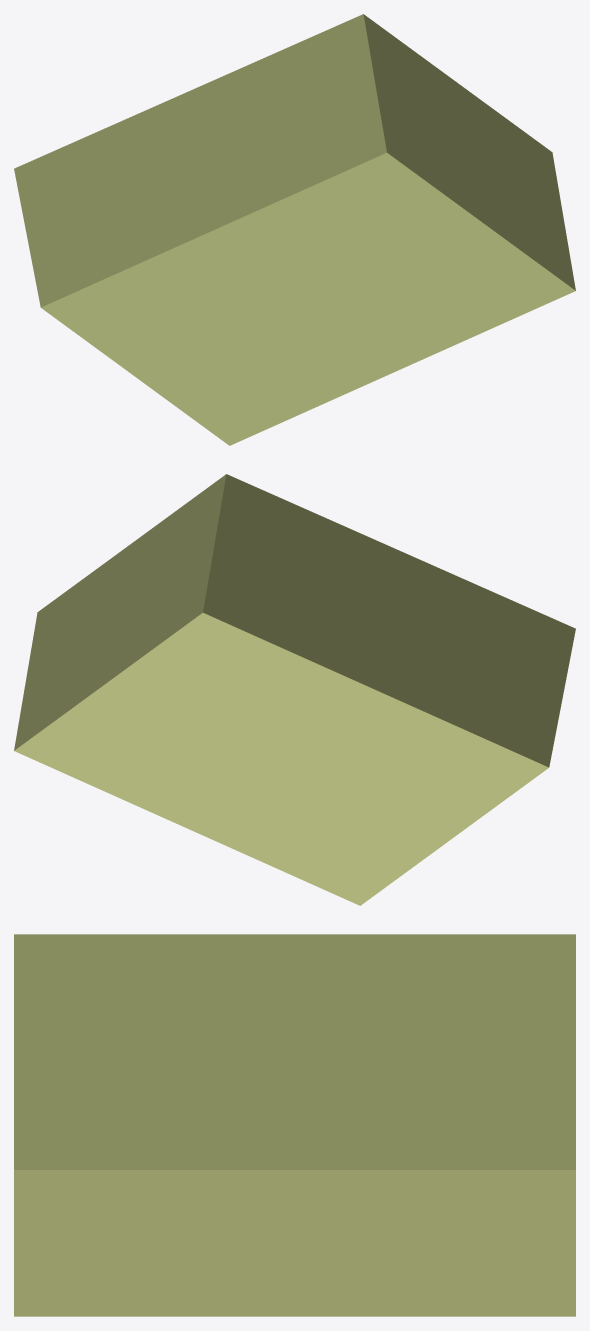
3 views of the same model, one above another, from view 1: azimuth 30°, elevation 25°; view 2: azimuth 150°, elevation 25°; view 3: azimuth 270°, elevation 25° (orthographic). The views are drawn at different scales.
Parts seen in each view (by area): view 1: 0_1_2_3_3_3_3_3_1_0_2; view 2: 0_1_2_3_3_3_3_3_1_0_2; view 3: 0_1_2_3_3_3_3_3_1_0_2.
Part boxes in pixels (x1=…): 0_1_2_3_3_3_3_3_1_0_2: x1=14, y1=14, x2=575, y2=445; 0_1_2_3_3_3_3_3_1_0_2: x1=14, y1=474, x2=575, y2=905; 0_1_2_3_3_3_3_3_1_0_2: x1=14, y1=934, x2=575, y2=1316.
Bounding box in the file's own units: 10.26 × 5.65 × 9.
